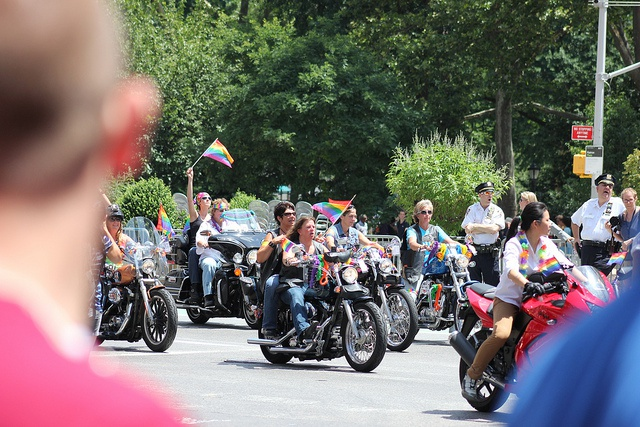non-vehicle: (442, 260, 615, 414), (228, 249, 388, 373), (175, 227, 266, 325), (94, 251, 177, 351), (357, 250, 418, 350), (414, 243, 474, 329)
